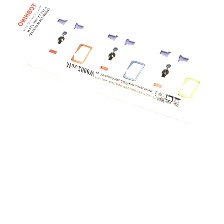three_eye_plug: (0, 0, 224, 127)
